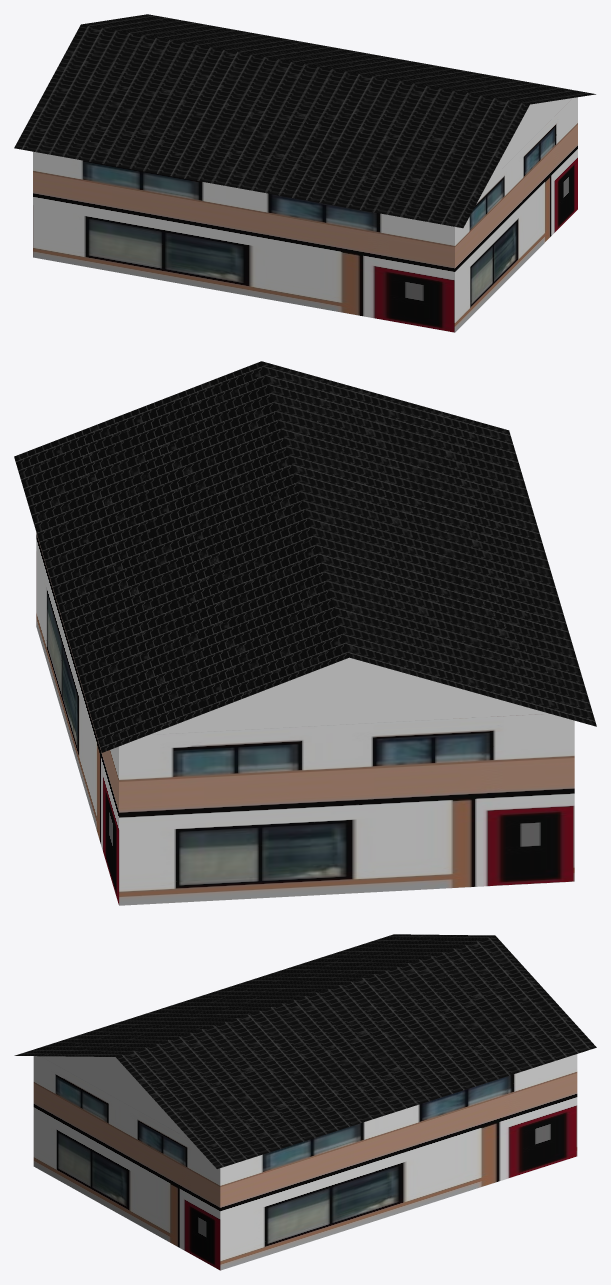
The picture shows the model from 3 angles, top to bottom: view 1: azimuth 30°, elevation 25°; view 2: azimuth 150°, elevation 25°; view 3: azimuth 270°, elevation 25°; orthographic projection. The views are drawn at different scales.
Parts seen in each view (by area): view 1: CityEngineMaterial_14_m, CityEngineMaterial_5_m, CityEngineMaterial_3_m; view 2: CityEngineMaterial_14_m, CityEngineMaterial_5_m, CityEngineMaterial_3_m; view 3: CityEngineMaterial_14_m, CityEngineMaterial_5_m, CityEngineMaterial_3_m.
Boxes of the visible parts, x1,y1,x2,y2 form: CityEngineMaterial_14_m: [14, 14, 595, 228]; CityEngineMaterial_5_m: [33, 97, 577, 332]; CityEngineMaterial_3_m: [487, 98, 572, 183]; CityEngineMaterial_14_m: [14, 361, 596, 752]; CityEngineMaterial_5_m: [36, 533, 574, 905]; CityEngineMaterial_3_m: [149, 657, 548, 734]; CityEngineMaterial_14_m: [14, 934, 596, 1168]; CityEngineMaterial_5_m: [33, 1054, 577, 1270]; CityEngineMaterial_3_m: [41, 1056, 189, 1139].
Bounding box in the file's own units: 38.73 × 12.7 × 40.62.
